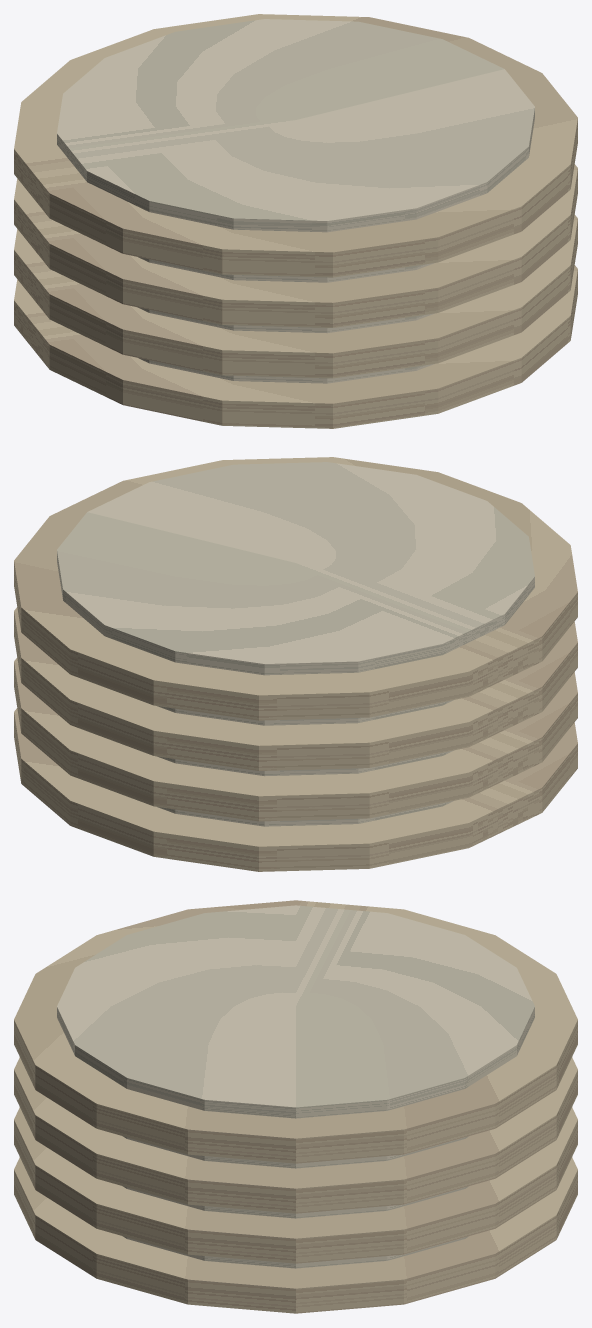
The model's file is platos_apilados.glb.
3 views of the same model, one above another, from view 1: azimuth 30°, elevation 25°; view 2: azimuth 150°, elevation 25°; view 3: azimuth 270°, elevation 25° (orthographic).
Parts seen in each view (by area): view 1: platos_apilados; view 2: platos_apilados; view 3: platos_apilados.
Part boxes in pixels (x1,y1,x2,y2): platos_apilados: [14, 14, 577, 428]; platos_apilados: [14, 457, 577, 871]; platos_apilados: [14, 900, 577, 1313].
Bounding box in the file's own units: 0.2804 × 0.1032 × 0.2804.
Materials: 1 (1 with a texture image).
